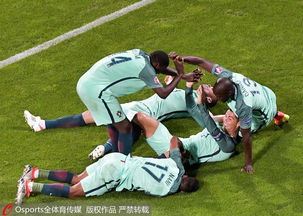fall: (13, 146, 199, 201)
